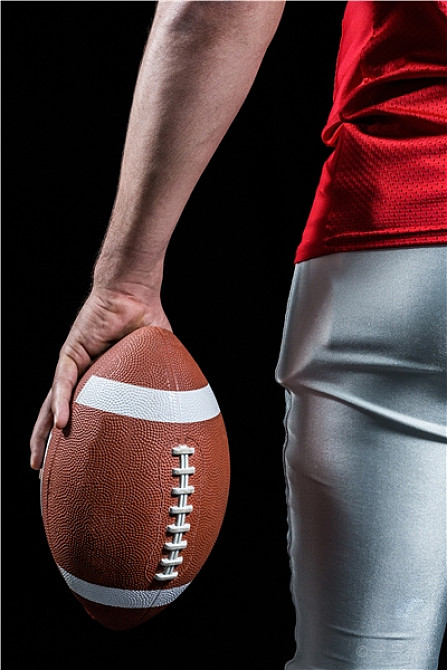no-phone: (27, 229, 232, 602)
